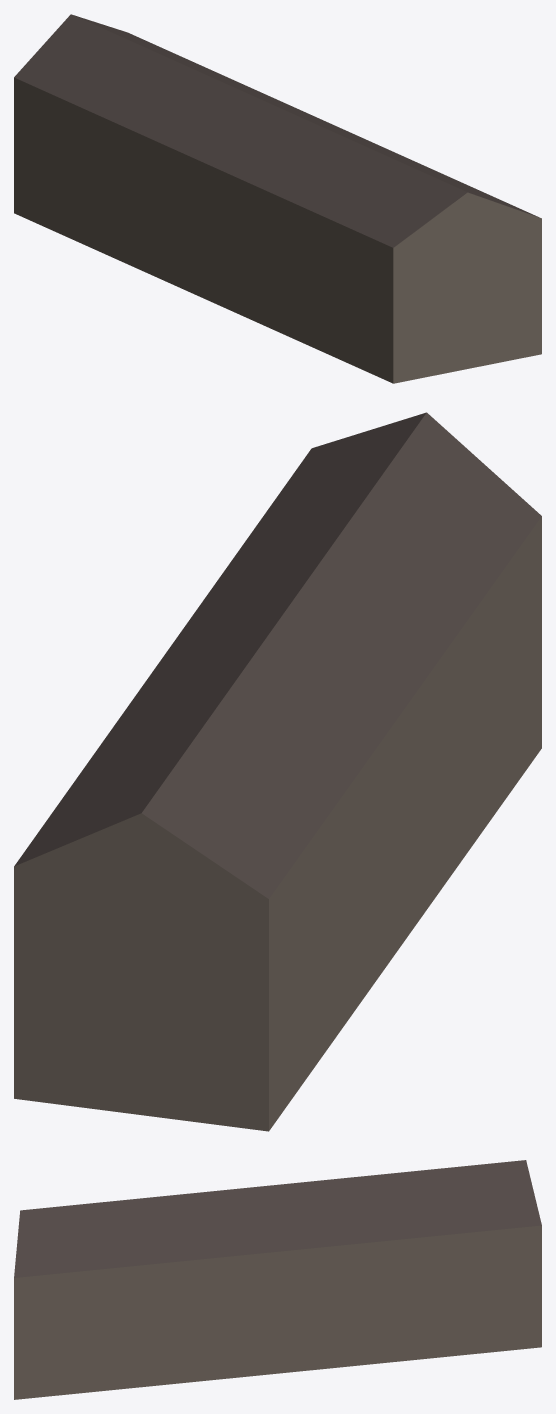
The picture shows the model from 3 angles, top to bottom: view 1: azimuth 30°, elevation 25°; view 2: azimuth 150°, elevation 25°; view 3: azimuth 270°, elevation 25°; orthographic projection. The views are drawn at different scales.
Parts seen in each view (by area): view 1: HP-w859082554; view 2: HP-w859082554; view 3: HP-w859082554.
Part boxes in pixels (box(x1,y1,x2,y2)): HP-w859082554: box(14, 14, 541, 383); HP-w859082554: box(14, 412, 541, 1131); HP-w859082554: box(14, 1160, 541, 1399).
Size of the model in its own units: 17.45 by 11.71 by 35.34.
